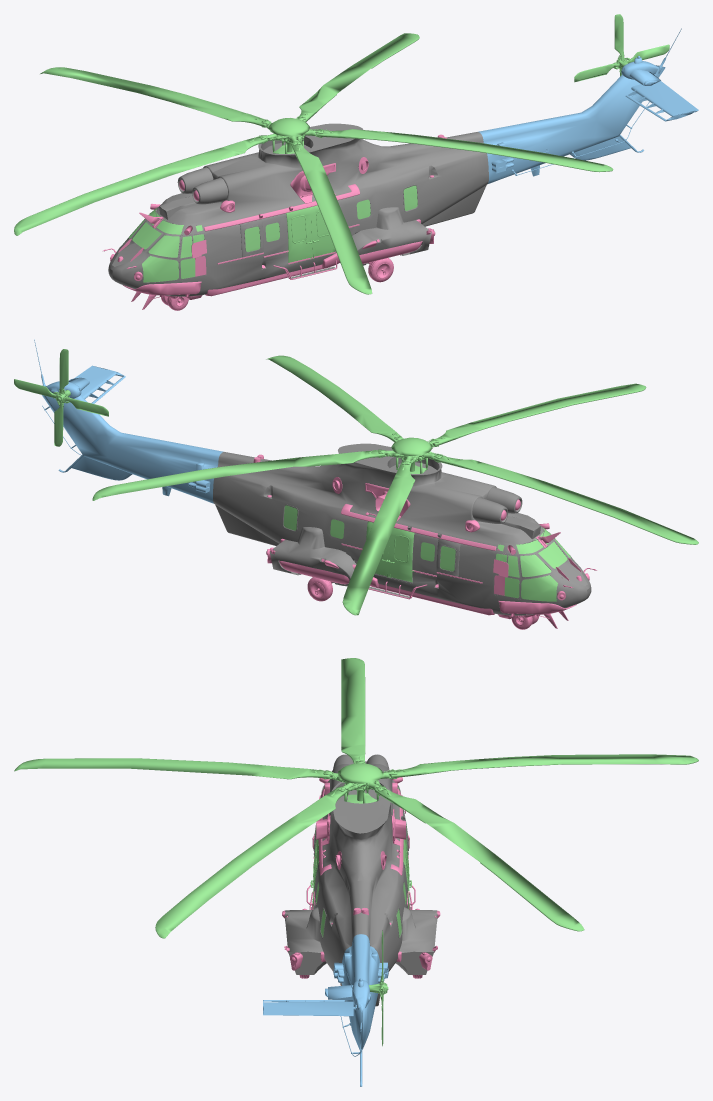
File: P_SM_SuperPuma_001.FBX
The picture shows the model from 3 angles, top to bottom: view 1: azimuth 30°, elevation 25°; view 2: azimuth 150°, elevation 25°; view 3: azimuth 270°, elevation 25°; orthographic projection. The views are drawn at different scales.
Parts seen in each view (by area): view 1: P_SM_Base_Helicoptere_001, P_SM_Helices_Helicoptere_002, P_SM_Queue_Helicoptere_001, P_SM_Base_Helicoptere_002, P_SM_Vitres_Helicoptere_001, P_SM_Helices_Helicoptere_001, P_SM_Portes_Helicoptere_001, P_SM_Portes_Helicoptere_002; view 2: P_SM_Base_Helicoptere_001, P_SM_Helices_Helicoptere_002, P_SM_Queue_Helicoptere_001, P_SM_Base_Helicoptere_002, P_SM_Vitres_Helicoptere_001, P_SM_Helices_Helicoptere_001, P_SM_Portes_Helicoptere_004; view 3: P_SM_Helices_Helicoptere_002, P_SM_Base_Helicoptere_001, P_SM_Queue_Helicoptere_001, P_SM_Base_Helicoptere_002.
Part boxes in pixels (box(x1,y1,x2,y2)): P_SM_Base_Helicoptere_001: box(108, 123, 488, 296); P_SM_Helices_Helicoptere_002: box(14, 33, 613, 294); P_SM_Queue_Helicoptere_001: box(478, 28, 698, 183); P_SM_Base_Helicoptere_002: box(102, 134, 447, 310); P_SM_Vitres_Helicoptere_001: box(123, 185, 417, 282); P_SM_Helices_Helicoptere_001: box(574, 14, 669, 82); P_SM_Portes_Helicoptere_001: box(286, 207, 312, 262); P_SM_Portes_Helicoptere_002: box(309, 205, 335, 258); P_SM_Base_Helicoptere_001: box(213, 443, 591, 615); P_SM_Helices_Helicoptere_002: box(92, 355, 698, 615); P_SM_Queue_Helicoptere_001: box(34, 339, 223, 503); P_SM_Base_Helicoptere_002: box(253, 454, 597, 629); P_SM_Vitres_Helicoptere_001: box(283, 505, 574, 601); P_SM_Helices_Helicoptere_001: box(14, 349, 108, 446); P_SM_Portes_Helicoptere_004: box(388, 528, 414, 582); P_SM_Helices_Helicoptere_002: box(14, 658, 698, 938); P_SM_Base_Helicoptere_001: box(284, 754, 437, 1006); P_SM_Queue_Helicoptere_001: box(263, 934, 388, 1086); P_SM_Base_Helicoptere_002: box(282, 777, 440, 978).
Bounding box in the file's own units: 2272 × 568 × 1813.
